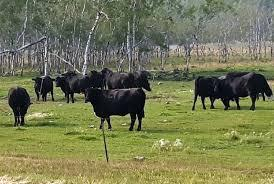cow: (84, 88, 145, 132), (213, 74, 259, 110), (192, 77, 231, 111), (8, 86, 32, 126), (33, 77, 55, 101)
